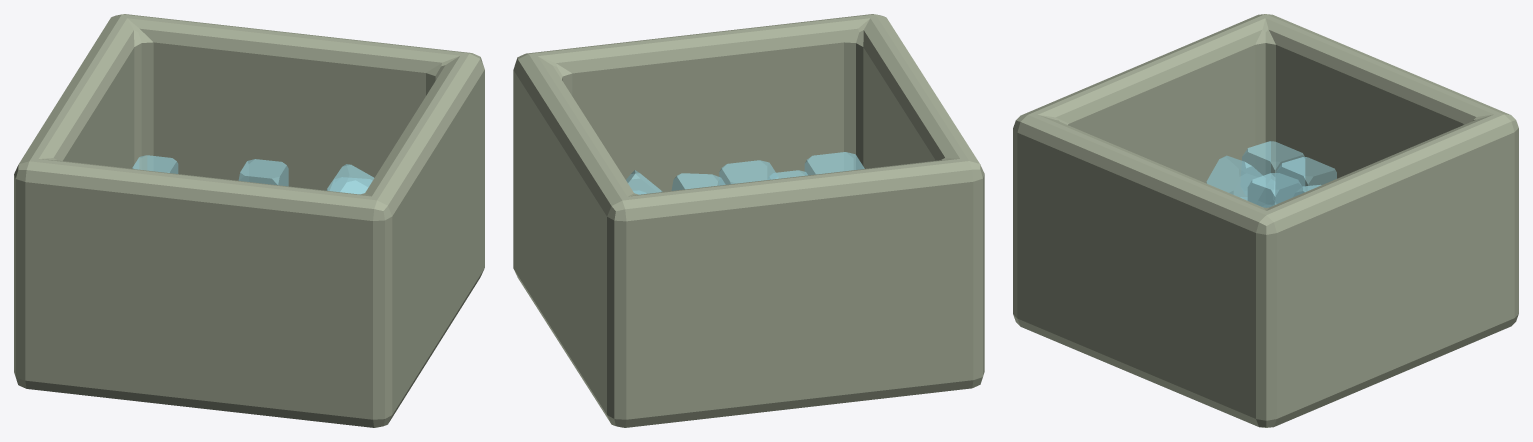
The model's file is icebox.glb.
3 renders of one model, left to right at view 1: azimuth 30°, elevation 25°; view 2: azimuth 150°, elevation 25°; view 3: azimuth 270°, elevation 25°, orthographic. The views are drawn at different scales.
Parts seen in each view (by area): view 1: icebox, ices; view 2: icebox, ices; view 3: icebox, ices.
Boxes of the visible parts, left/top/right/bottom form: icebox: left=14, top=14, right=484, bottom=427; ices: left=132, top=155, right=374, bottom=194; icebox: left=513, top=14, right=984, bottom=427; ices: left=626, top=152, right=864, bottom=194; icebox: left=1013, top=14, right=1518, bottom=427; ices: left=1206, top=141, right=1336, bottom=207.
Bounding box in the file's own units: 1.5 × 0.6939 × 1.5.
